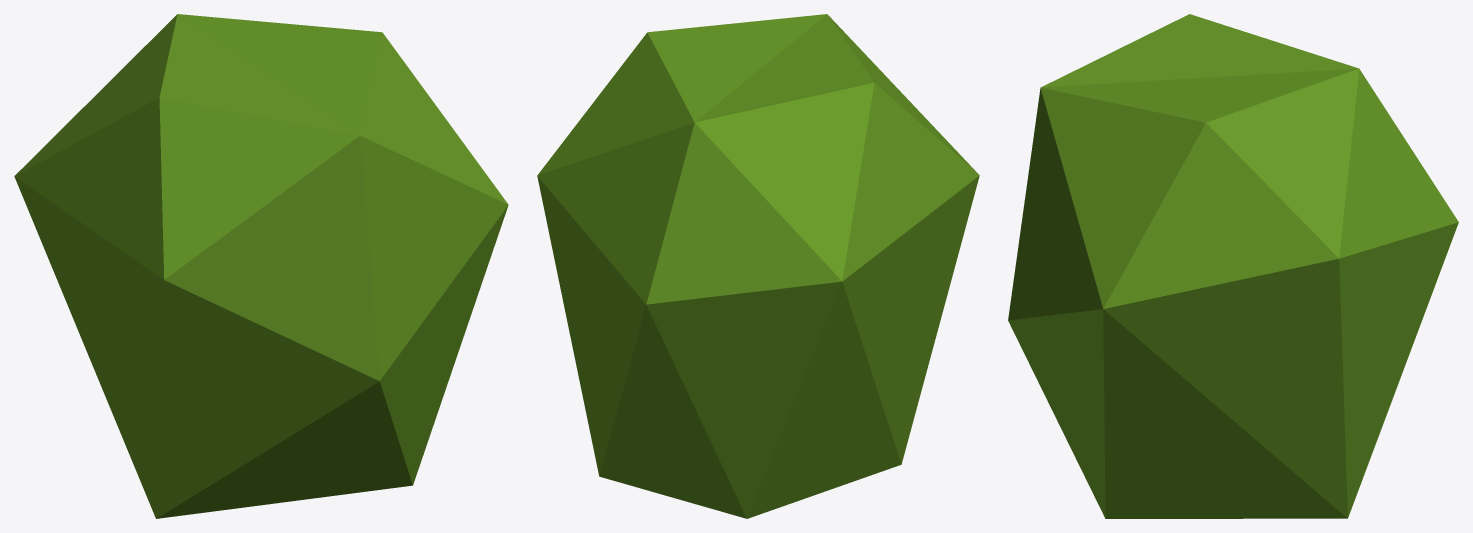
File: cabbage.fbx
3 views of the same model, side by side, from view 1: azimuth 30°, elevation 25°; view 2: azimuth 150°, elevation 25°; view 3: azimuth 270°, elevation 25° (orthographic). The views are drawn at different scales.
Parts seen in each view (by area): view 1: cabbage; view 2: cabbage; view 3: cabbage.
Part boxes in pixels (x1,y1,x2,y2): cabbage: (14, 14, 508, 518); cabbage: (537, 14, 979, 518); cabbage: (1008, 14, 1458, 518).
Size of the model in its own units: 114 by 124 by 125.
